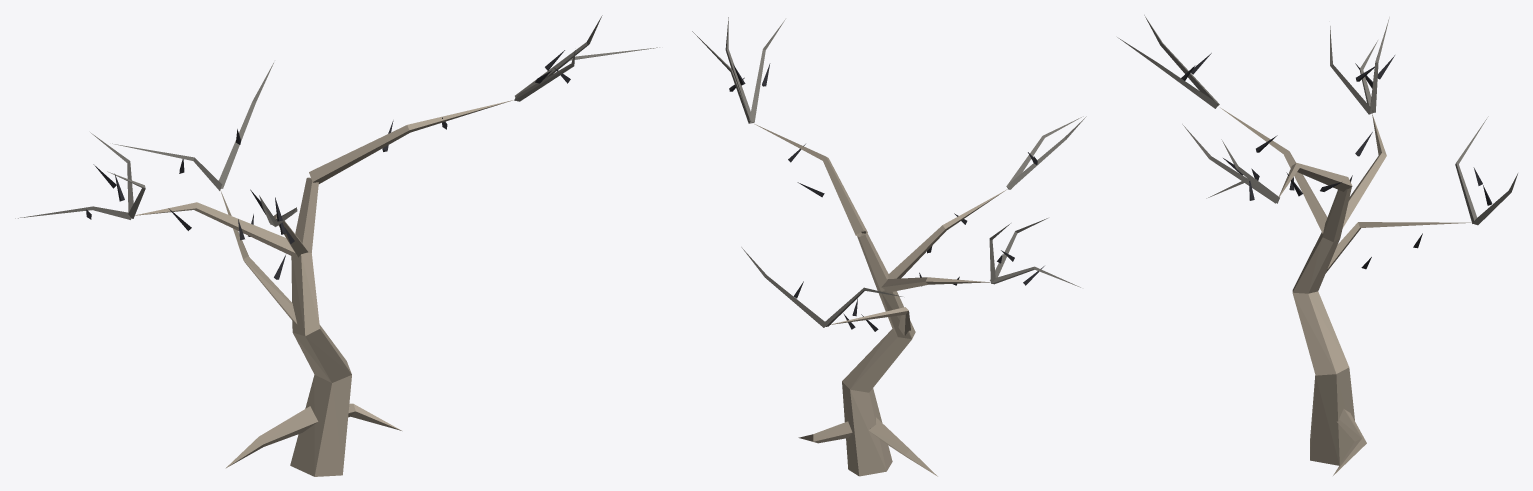
File: Circle7Piece_Tree4.obj
The picture shows the model from 3 angles, left to right: view 1: azimuth 30°, elevation 25°; view 2: azimuth 150°, elevation 25°; view 3: azimuth 270°, elevation 25°; orthographic projection. The views are drawn at different scales.
Visible parts, largest first — view 1: Circle7Piece_Tree4; view 2: Circle7Piece_Tree4; view 3: Circle7Piece_Tree4.
Boxes of the visible parts, x1,y1,x2,y2 form: Circle7Piece_Tree4: (15, 15, 659, 476); Circle7Piece_Tree4: (692, 17, 1086, 476); Circle7Piece_Tree4: (1117, 15, 1517, 475).
Bounding box in the file's own units: 7.77 × 5.92 × 5.12.
1 material, 1 textured.
